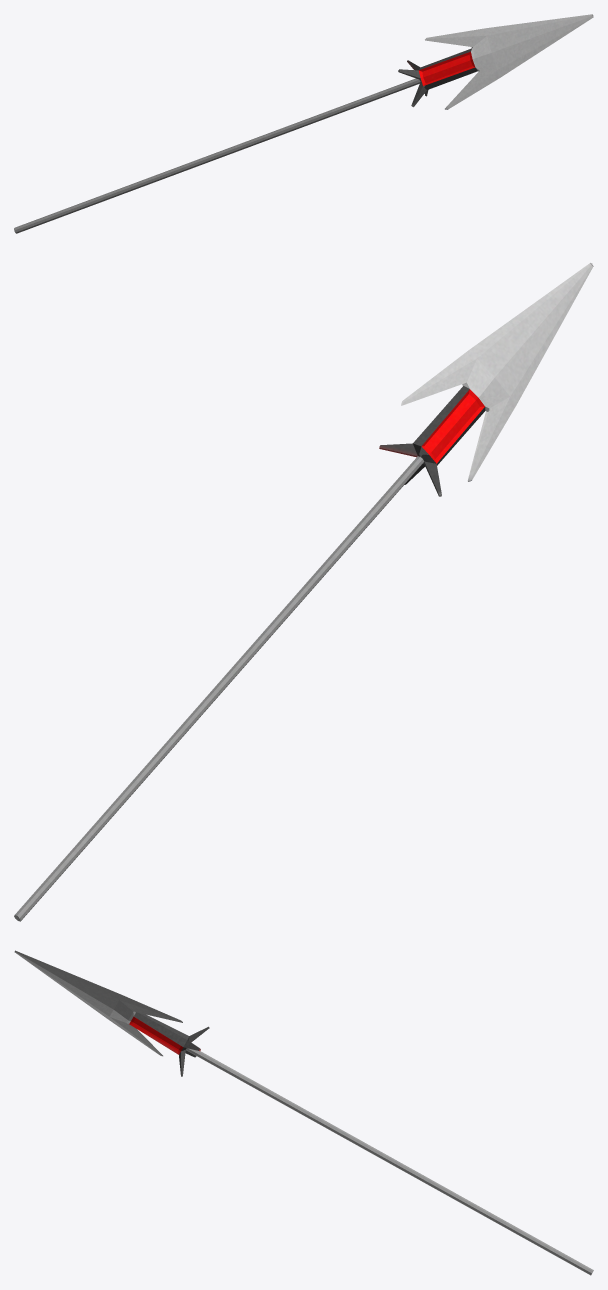
Rendered from spear.fbx.
3 renders of one model, top to bottom at view 1: azimuth 90°, elevation 25°; view 2: azimuth 150°, elevation 25°; view 3: azimuth 270°, elevation 25°, orthographic. The views are drawn at different scales.
Parts seen in each view (by area): view 1: spear; view 2: spear; view 3: spear.
Boxes of the visible parts, x1,y1,x2,y2 form: spear: [14, 14, 593, 233]; spear: [14, 263, 593, 921]; spear: [14, 950, 593, 1275].
Bounding box in the file's own units: 192 × 442 × 854.
